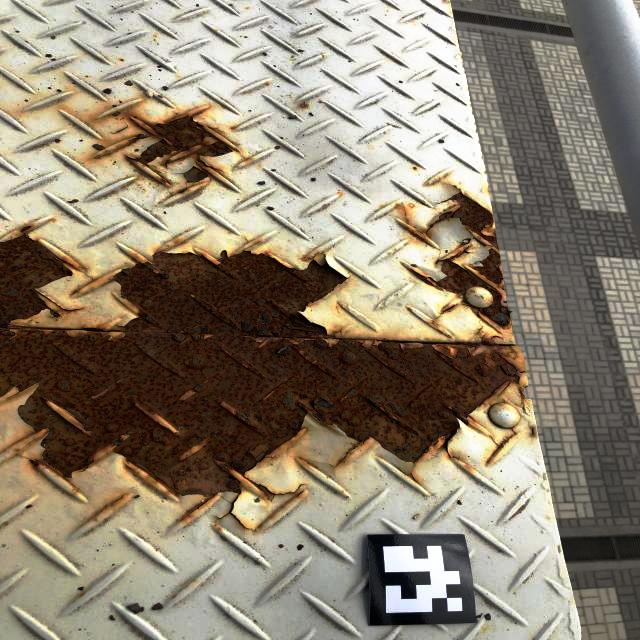Corrosion: (0, 223, 527, 527), (394, 185, 511, 329), (94, 106, 240, 193)
